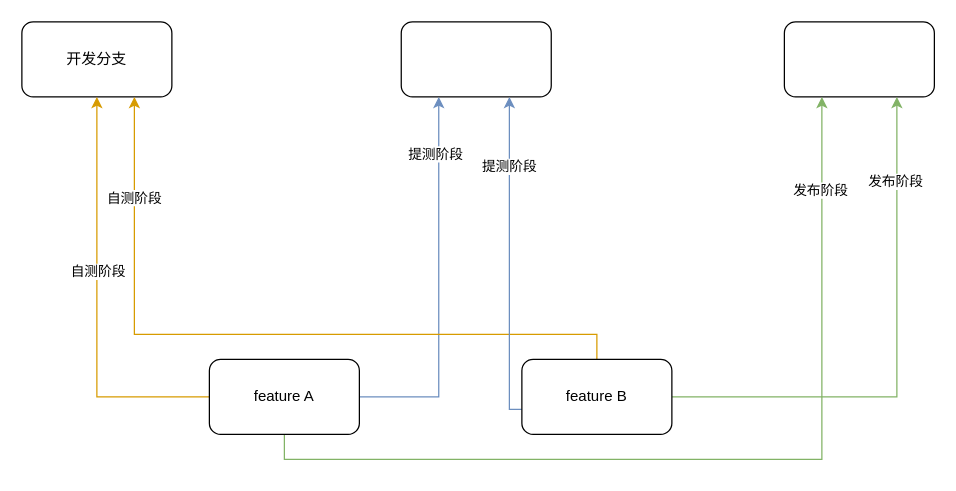
Image size: 956x491. Some labels were removed from this diagram. Each missing label, with the centre of its shape:
"正式分支" goes at [858,59].
"测试分支" goes at [475,59].
